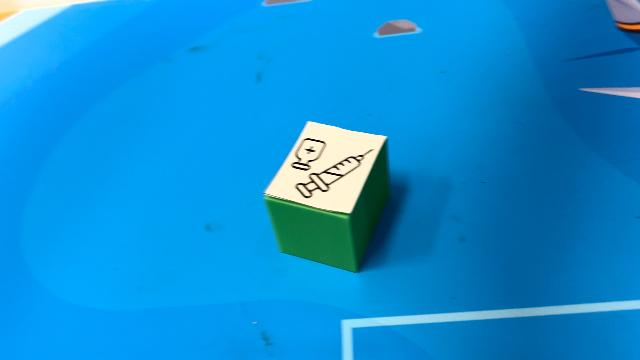syringe: (267, 120, 393, 272)
